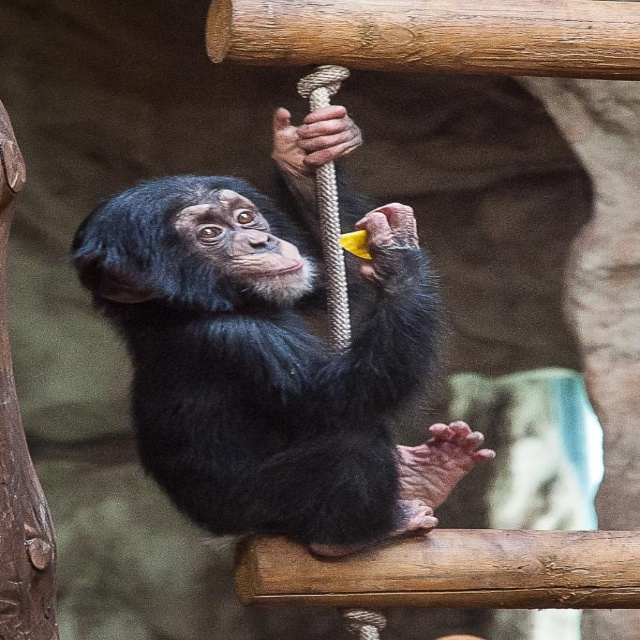Monkey: (76, 146, 468, 568)
